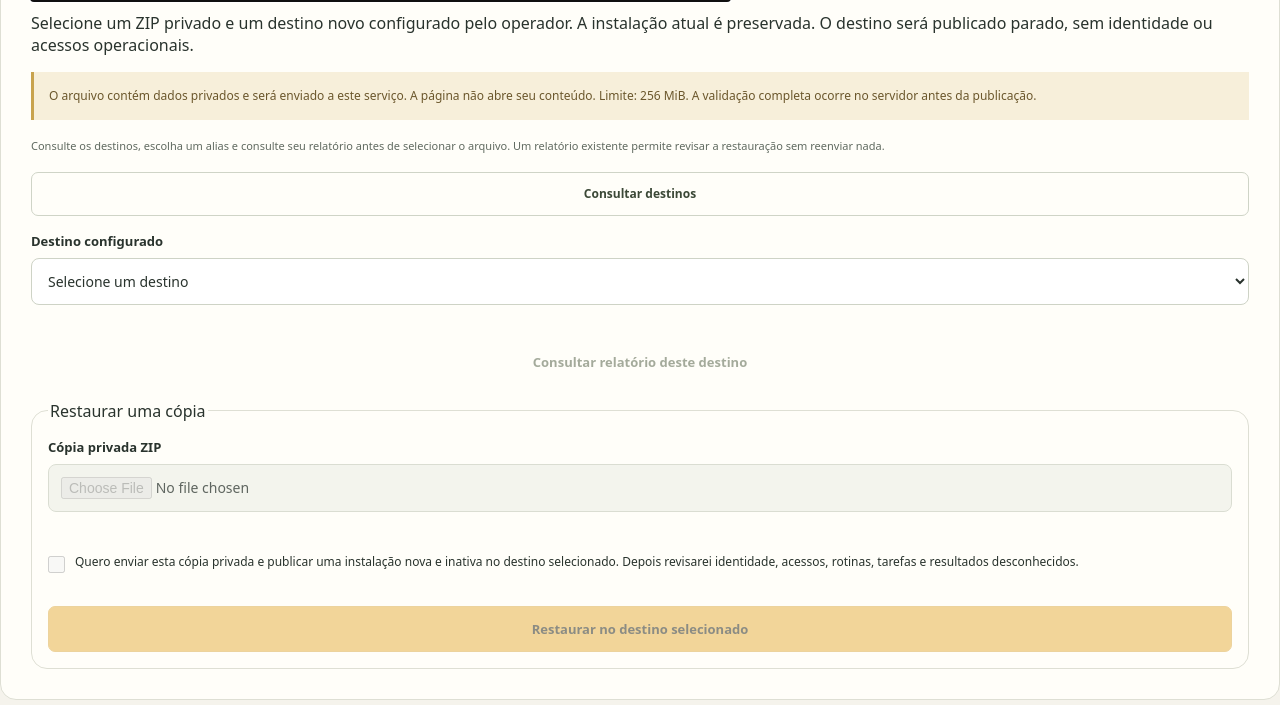
shows configuration prerequisite without inventing a destination
Click the button "Consultar destinos" at {"x": 640, "y": 194}, box [31,172,1249,216]
(page scrolled)
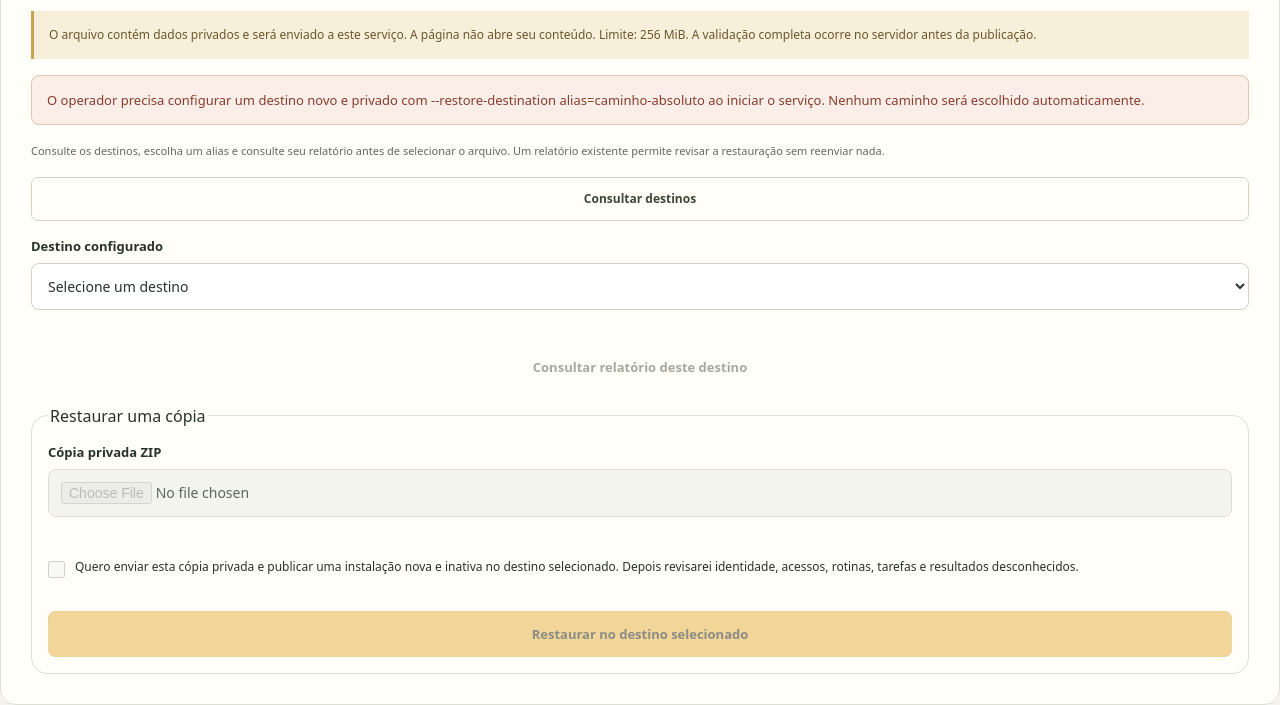
Expected: the button "Restaurar no destino selecionado" is disabled, [48,611,1232,657]
Expected: the text "O operador precisa configurar um destino novo e privado com --restore-destination alias=caminho-absoluto ao iniciar o serviço. Nenhum caminho será escolhido aut" is shown, [47,91,1144,109]
